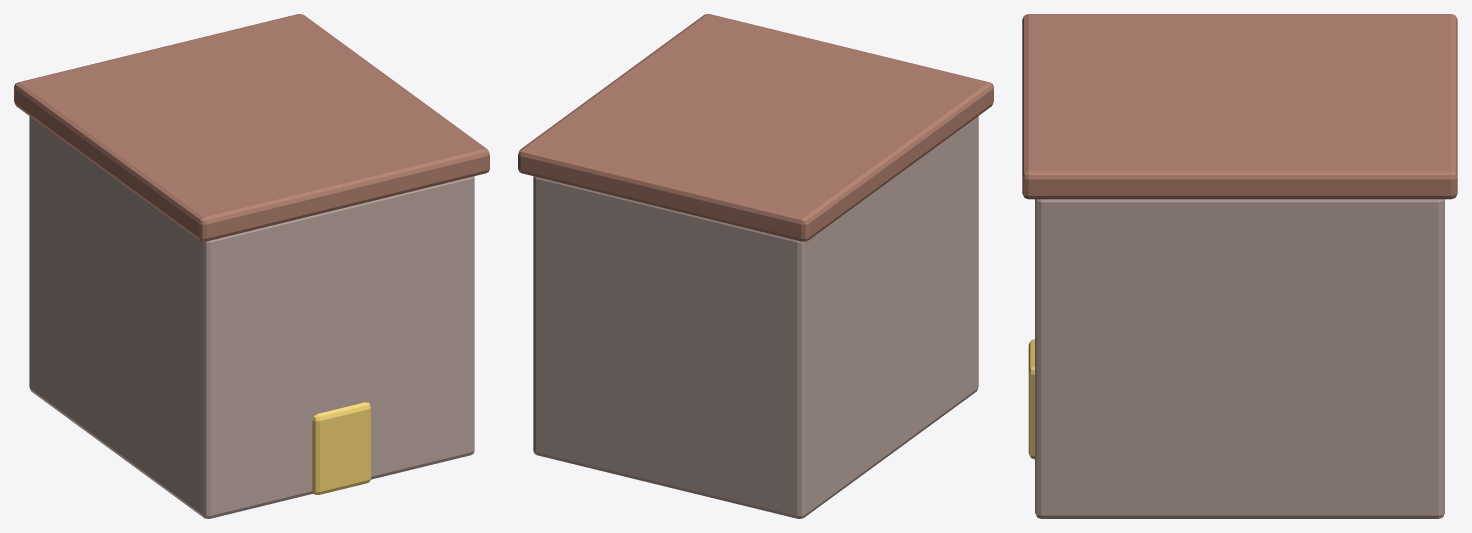
File: house.fbx
3 renders of one model, left to right at view 1: azimuth 30°, elevation 25°; view 2: azimuth 150°, elevation 25°; view 3: azimuth 270°, elevation 25°, orthographic. The views are drawn at different scales.
Visible parts, largest first — view 1: house; view 2: house; view 3: house.
Boxes of the visible parts, x1,y1,x2,y2 form: house: (14,14,489,518); house: (518,14,993,518); house: (1022,14,1457,518).
Bounding box in the file's own units: 15 × 15.2 × 17.
